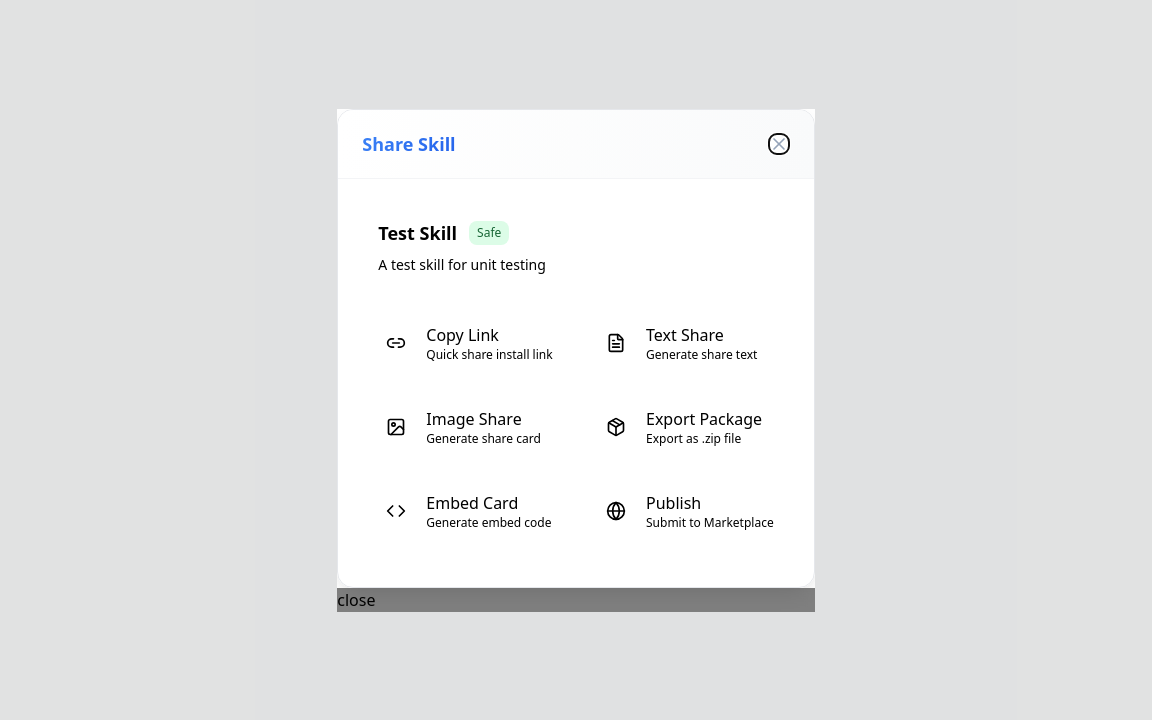
Test: ShareSheet › switches to package panel when package option is clicked
What coordinates should you click on to do the following:
click the button with test id "share-package-tab"
I would click on:
 (686, 426)
Its box is [582,390,790,462].
(page scrolled)
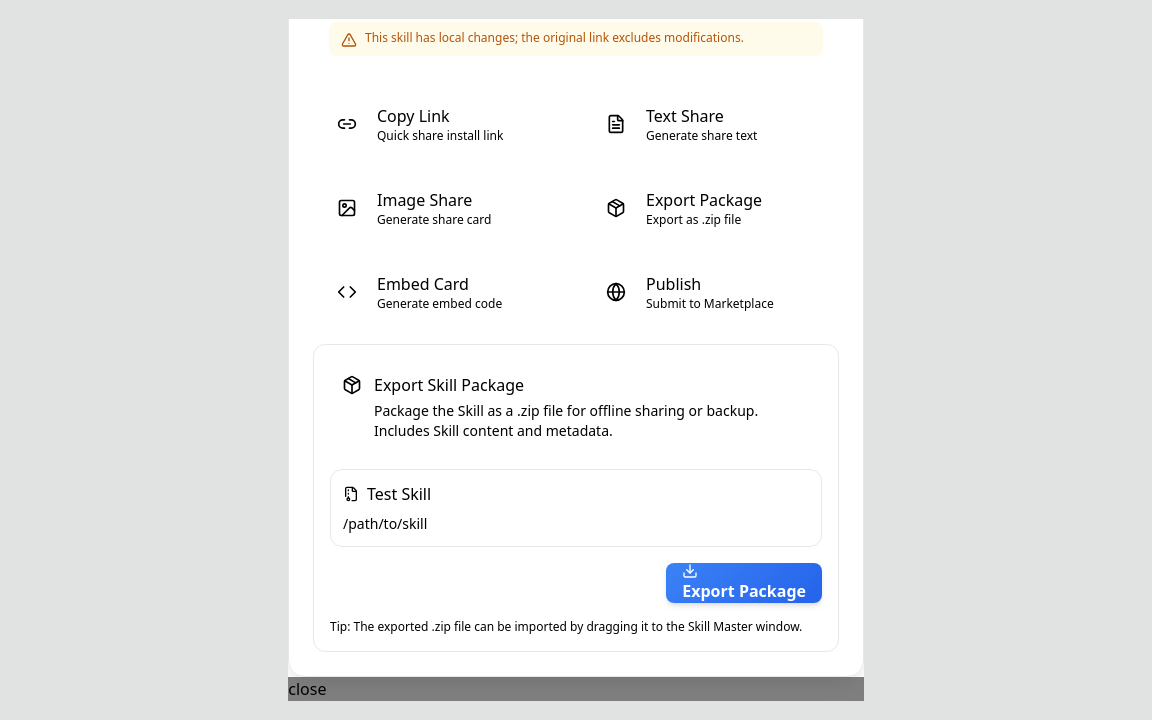
Result: the element with test id "share-package-panel" is shown at [313,344,839,652]
